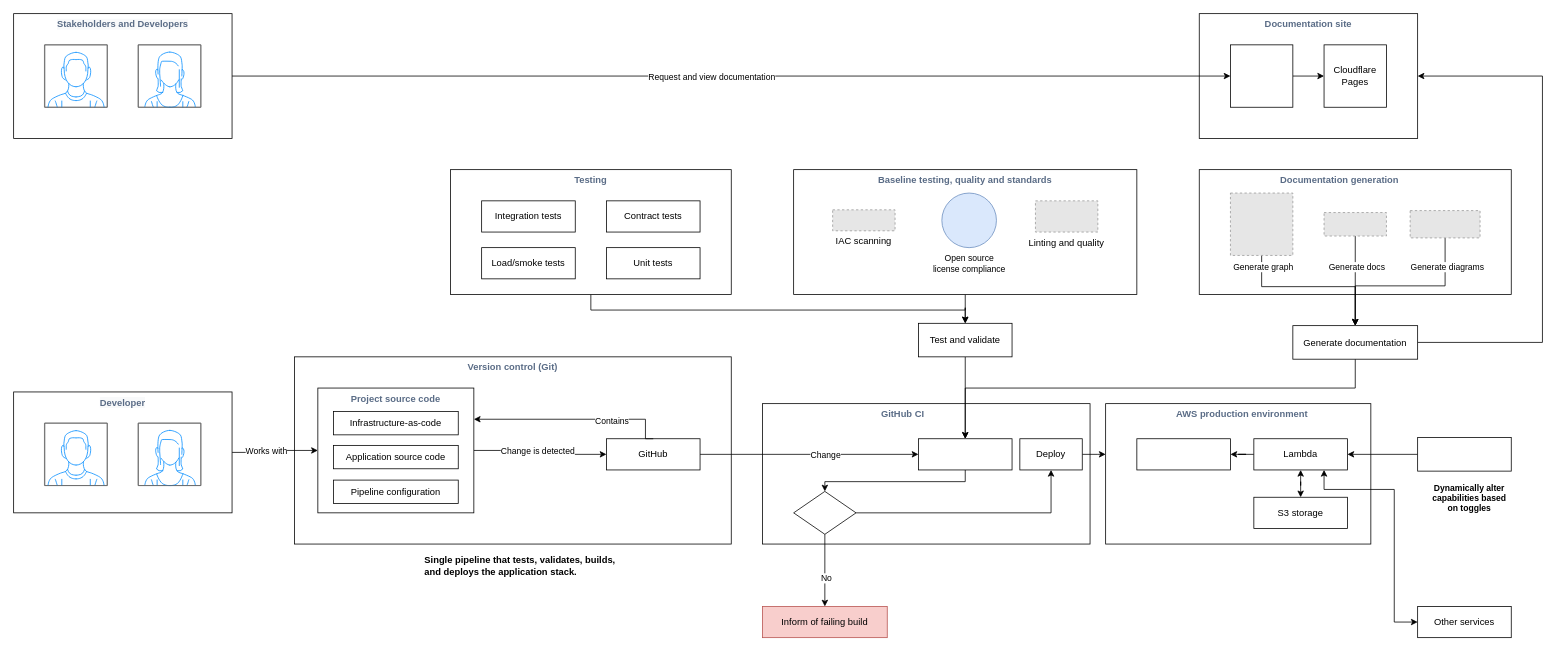
This 1562x651 diagram has some shape labels left out. Grey dashed boxes stand in for pictures. The centre of each missing label's shape, as x and y in pixels:
"API Gateway" goes at [1183,454].
"Cloudflare CDN" goes at [1261,75].
"Feature flags service" goes at [1464,454].
"Integration environment" goes at [965,454].
"license-compliance" goes at [968,220].
"Passed tests?" goes at [824,512].
